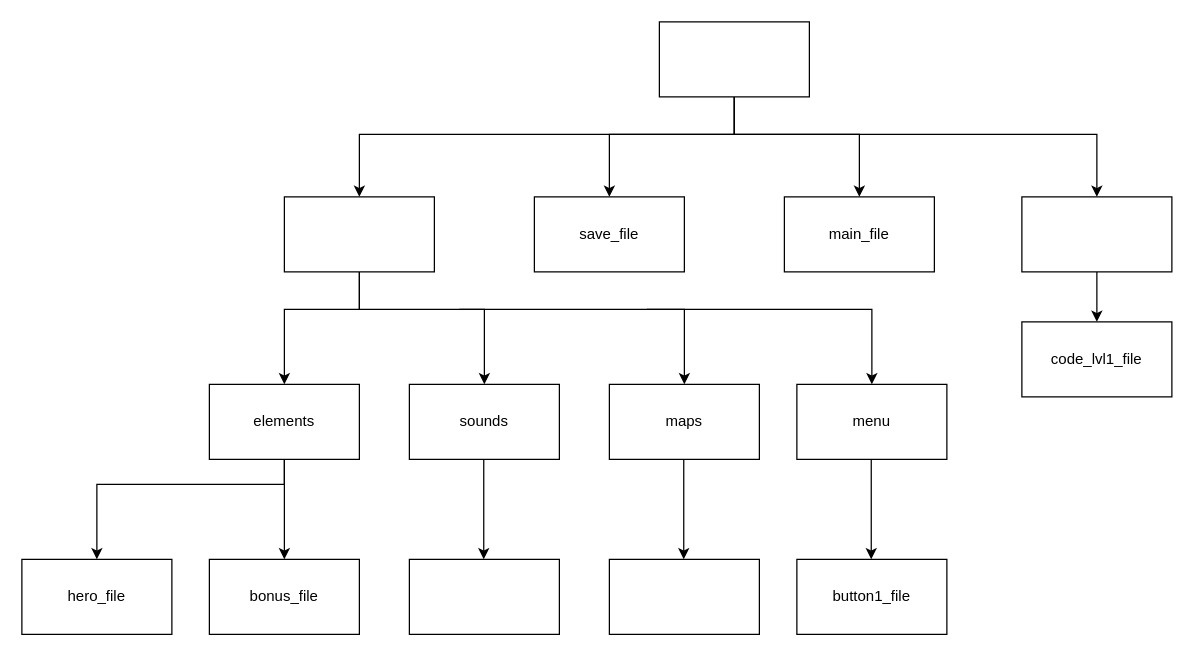
Image size: 1194x656. Some labels were removed from this diagram. Here are the shapes that lost their labels. From the top down, the box of each, then its label:
(658, 21, 809, 97): files
(283, 196, 434, 272): interface
(1021, 196, 1172, 272): код уровней
(408, 558, 559, 634): bip_file
(608, 558, 759, 634): lvl1_file
